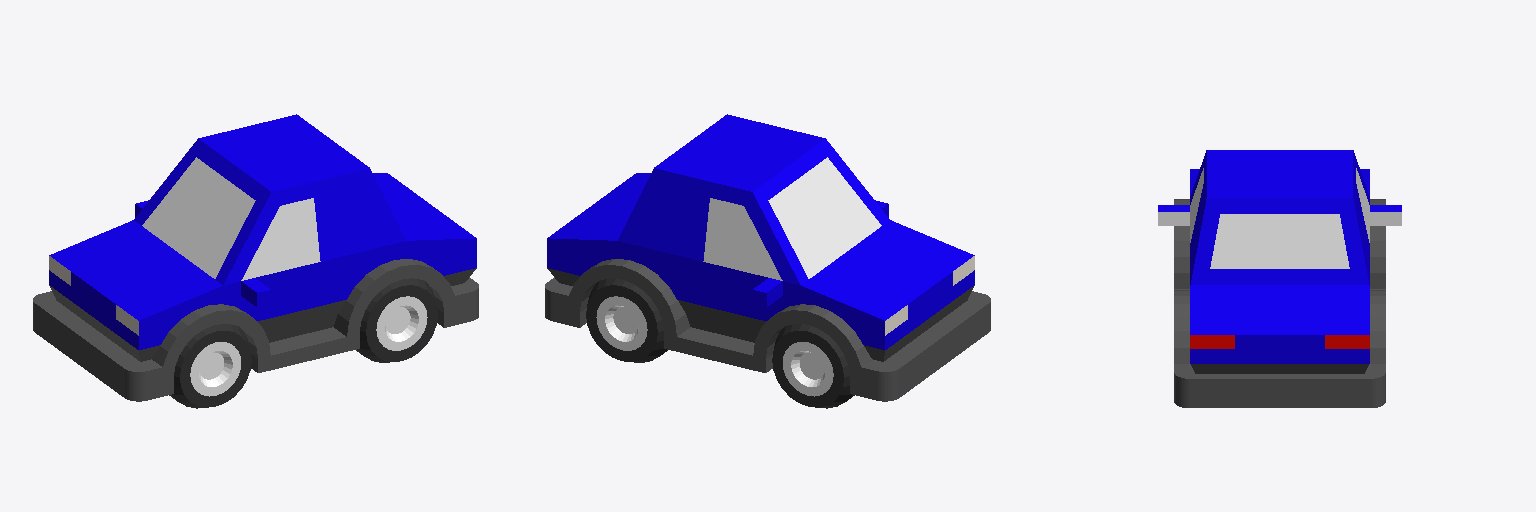
The model's file is sedan.obj.
The picture shows the model from 3 angles: view 1: azimuth 30°, elevation 25°; view 2: azimuth 150°, elevation 25°; view 3: azimuth 270°, elevation 25°; orthographic projection.
Parts seen in each view (by area): view 1: sedan; view 2: sedan; view 3: sedan.
Boxes of the visible parts, <box> form: sedan: <box>33,114,478,408</box>; sedan: <box>545,114,990,408</box>; sedan: <box>1158,150,1401,407</box>.
Size of the model in its own units: 0.9643 by 0.5014 by 0.5786.